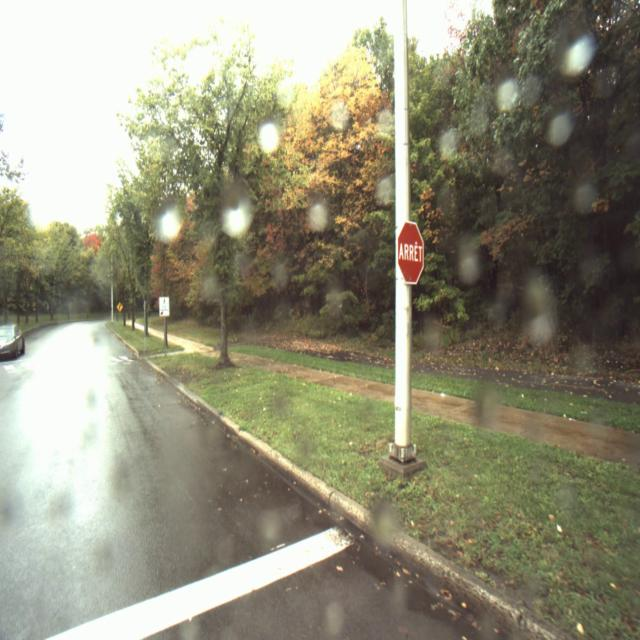car: (1, 323, 26, 362)
